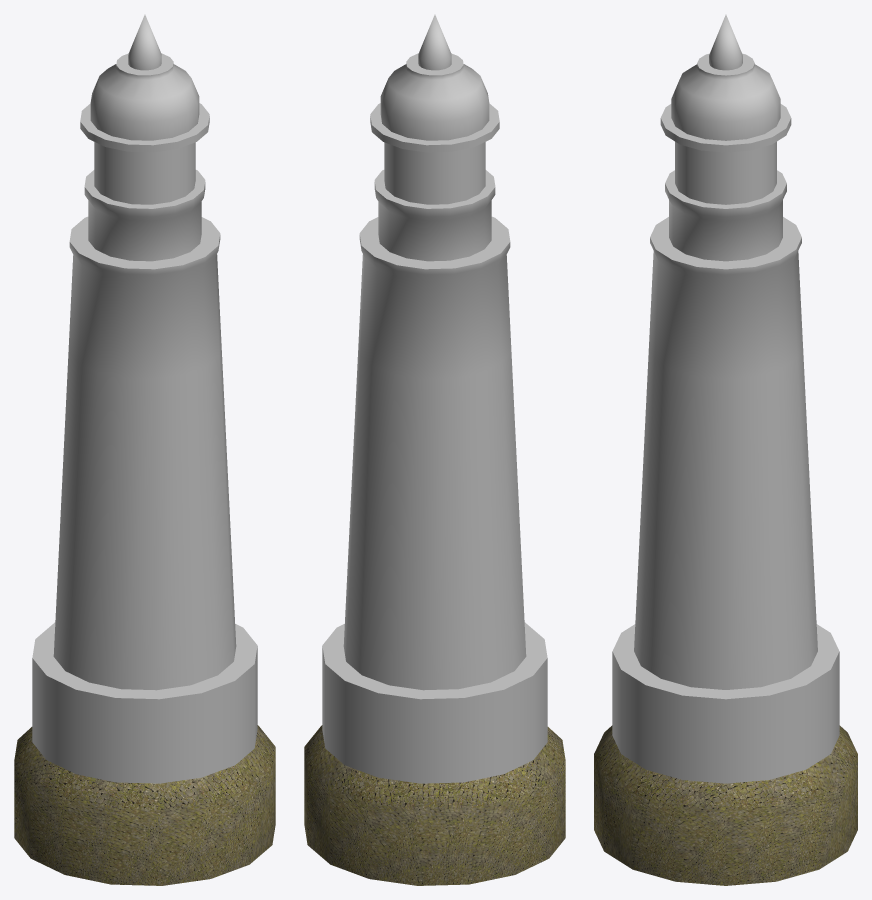
Rendered from Farol.fbx.
3 views of the same model, side by side, from view 1: azimuth 30°, elevation 25°; view 2: azimuth 150°, elevation 25°; view 3: azimuth 270°, elevation 25° (orthographic).
Visible parts, largest first — view 1: BaixoFarol, AltoFarol, BaseFarol; view 2: BaixoFarol, AltoFarol, BaseFarol; view 3: BaixoFarol, AltoFarol, BaseFarol.
Part boxes in pixels (x1=…): BaixoFarol: x1=32, y1=343, x2=257, y2=783; AltoFarol: x1=68, y1=14, x2=221, y2=378; BaseFarol: x1=14, y1=725, x2=275, y2=885; BaixoFarol: x1=322, y1=343, x2=547, y2=783; AltoFarol: x1=358, y1=14, x2=511, y2=378; BaseFarol: x1=304, y1=725, x2=565, y2=885; BaixoFarol: x1=612, y1=347, x2=839, y2=783; AltoFarol: x1=649, y1=14, x2=802, y2=379; BaseFarol: x1=594, y1=725, x2=857, y2=885.
Bounding box in the file's own units: 4014 × 4014 × 13706.
